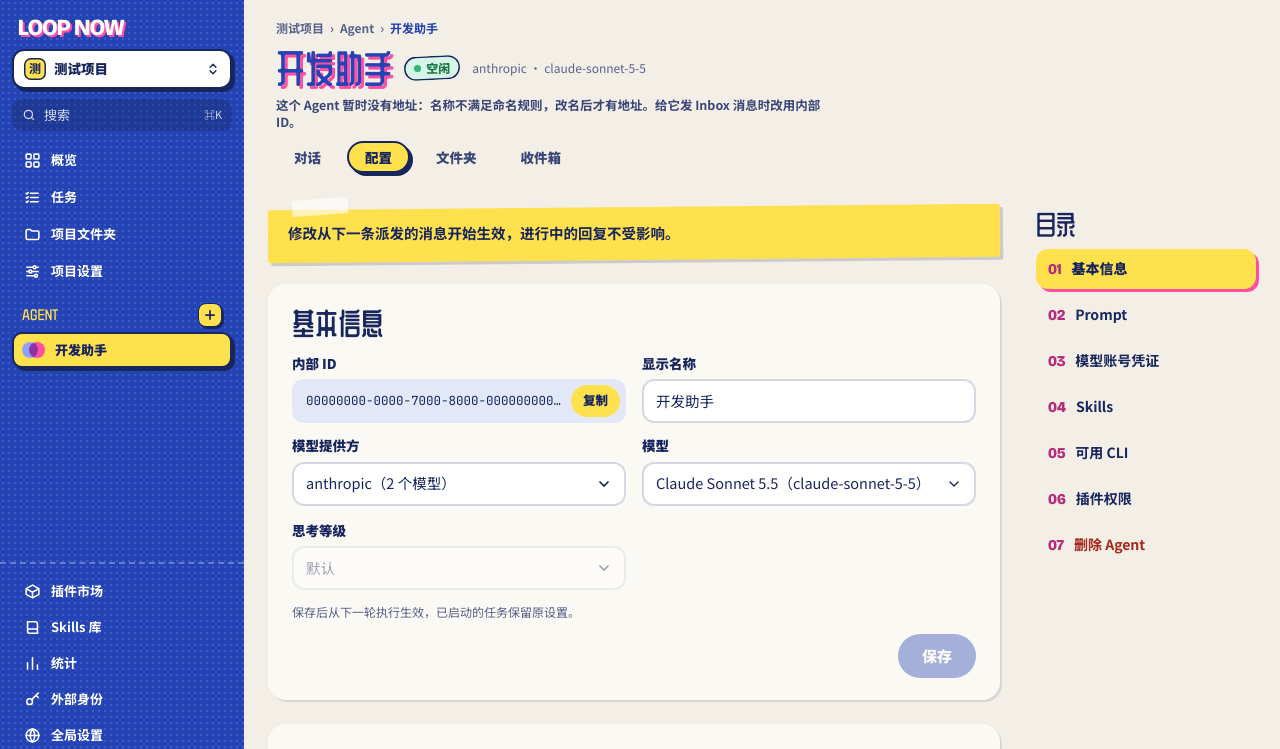
Test: 名称规则 › 改名不符合命名规则时先在本地提示，不提交
Expected: the element "基本信息" is shown, [268,284,1000,700]
Replace the text in the field labelled "显示名称" with "@开发" at (809, 401), box [642,379,976,423]
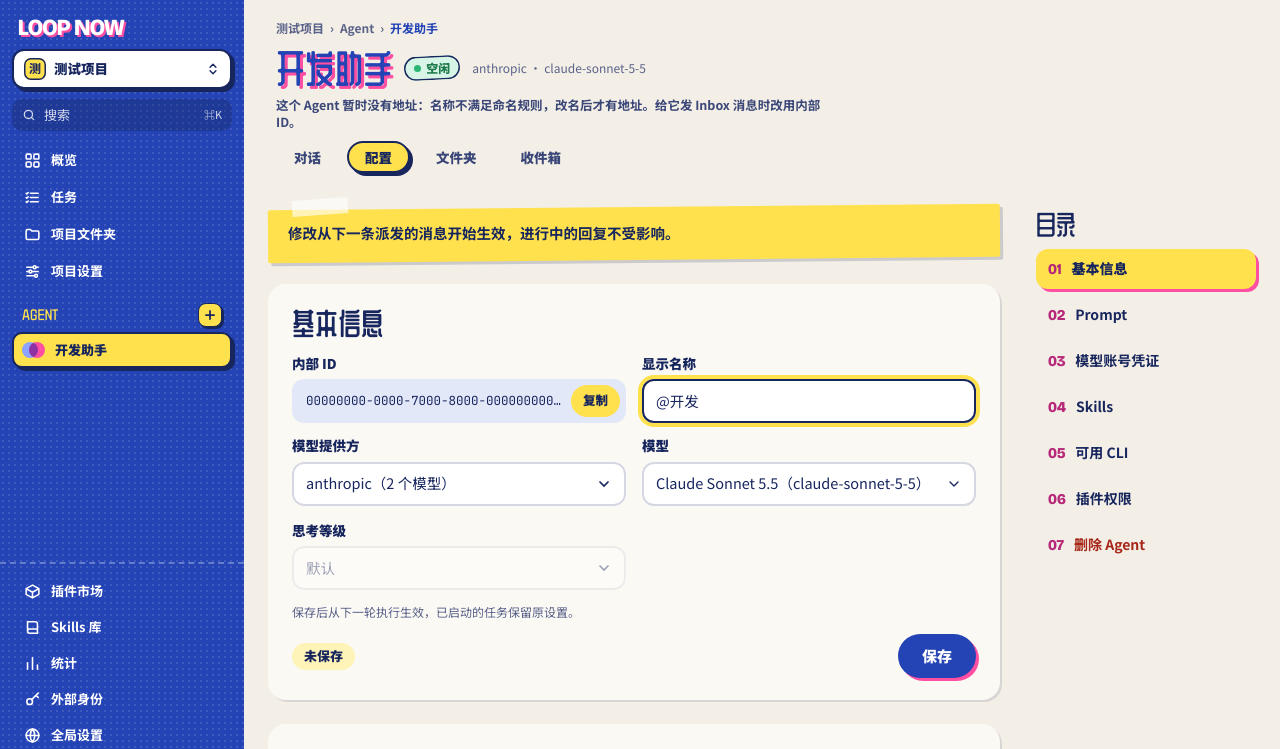
Click the button "保存" at (937, 656), box [898,634,976,678]
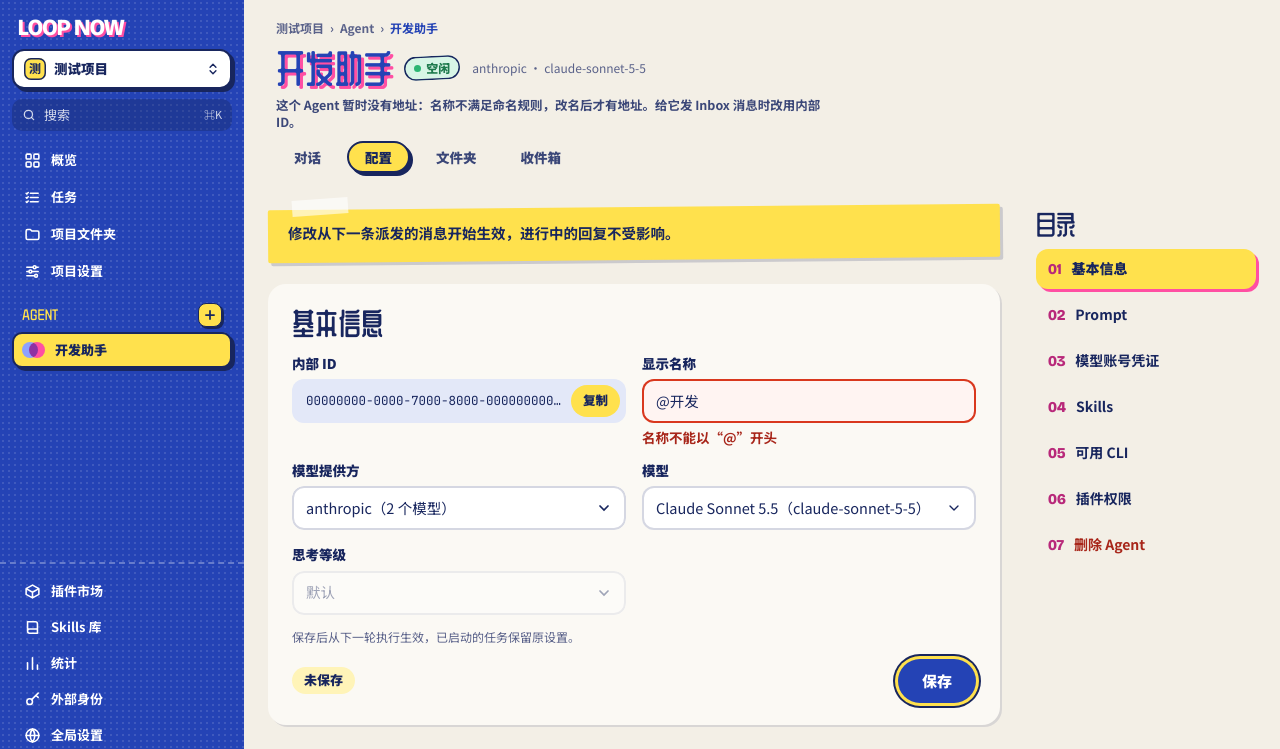
Result: the text "名称不能以“@”开头" is shown at [642,429,777,446]
